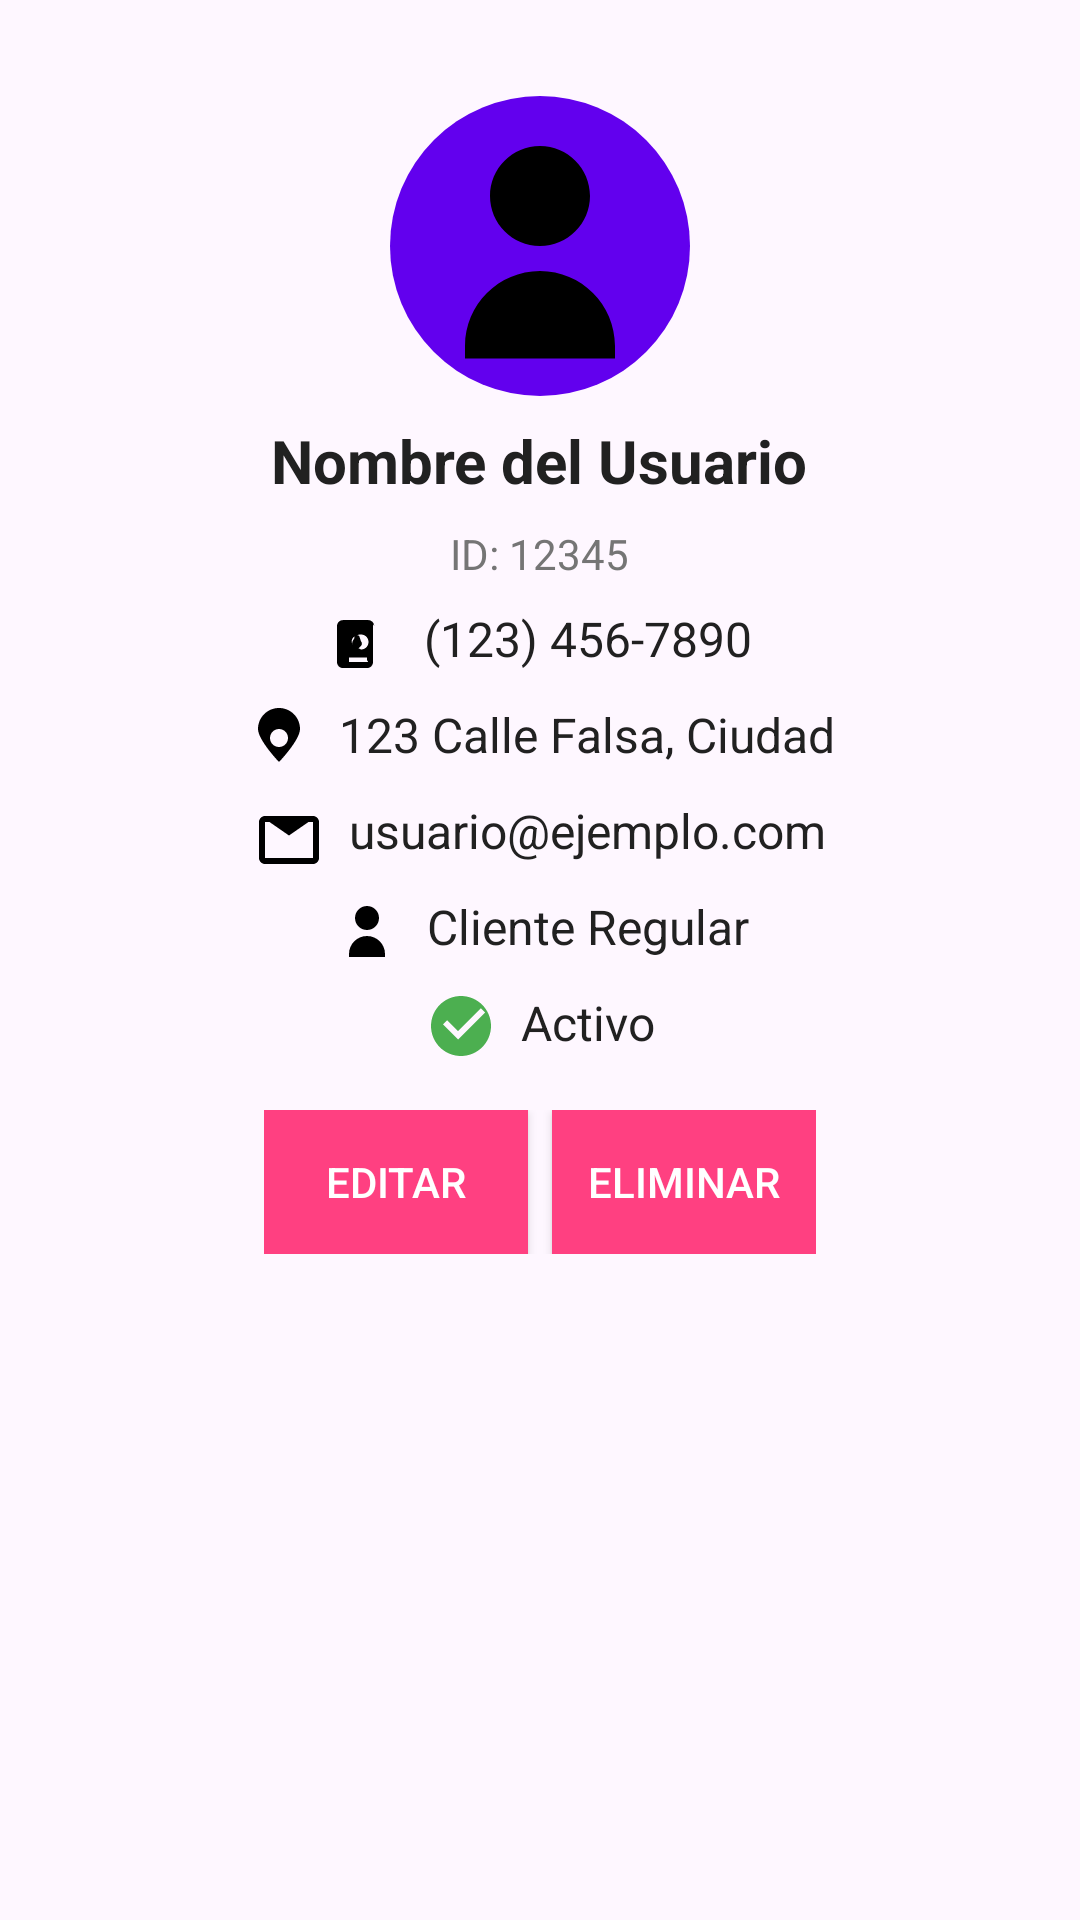

Where icons sit on this 1080*1920 app screen, as (x1, y1, x2, y2):
Icono de Correo: (259, 816, 319, 864)
Icono de Dirección: (258, 708, 300, 762)
Icono de Estado: (431, 996, 491, 1056)
Icono de Tipo de Cliente: (349, 906, 385, 957)
